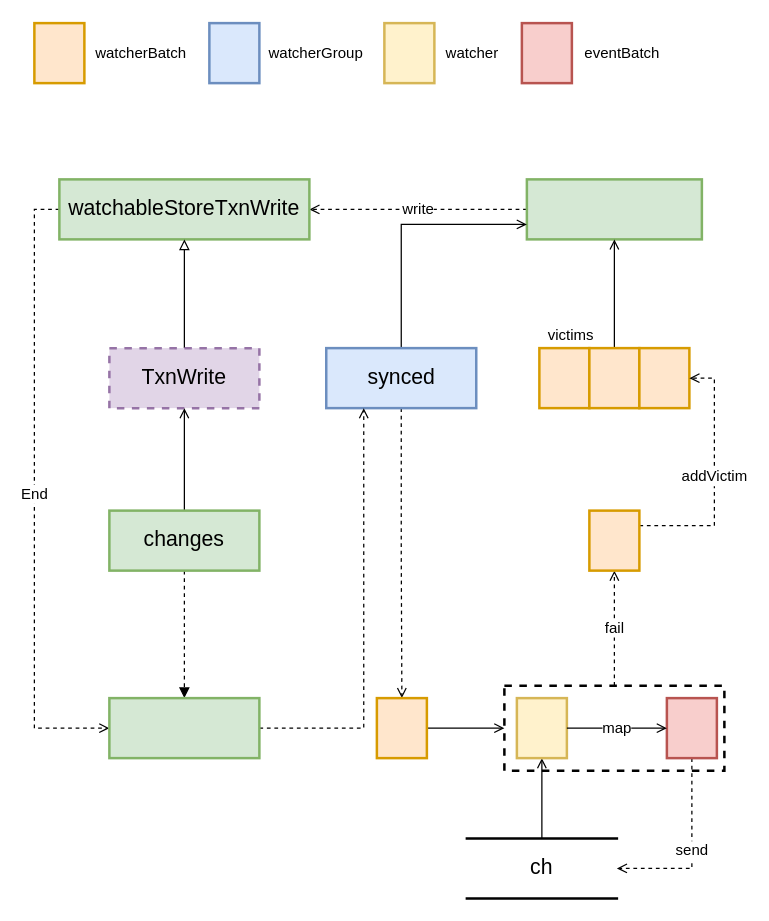
Image size: 769x921. Some labels were removed from this diagram. Each missing label, with the centre of its shape:
"mvccpb.Event" belongs at (x=184, y=727).
"watchableStore" belongs at (x=613, y=209).
